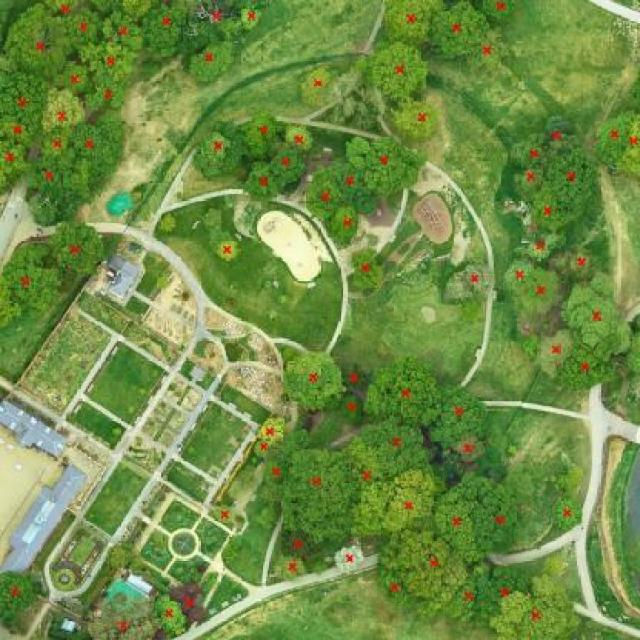tree: (282, 447, 358, 541), (363, 353, 442, 427), (492, 577, 583, 640), (559, 275, 630, 354), (0, 238, 62, 327), (348, 134, 428, 197), (402, 529, 466, 606), (356, 415, 436, 476), (345, 434, 390, 535), (435, 483, 488, 568), (381, 469, 447, 536), (353, 41, 429, 99), (8, 12, 72, 78), (468, 564, 535, 627), (282, 348, 347, 410), (428, 385, 492, 446), (472, 472, 518, 553), (427, 0, 489, 58), (88, 591, 164, 638), (556, 343, 626, 394), (548, 148, 604, 208), (196, 121, 249, 181), (0, 72, 49, 136), (50, 218, 104, 276), (374, 0, 446, 43), (74, 112, 124, 173), (0, 564, 45, 631), (523, 325, 575, 378), (31, 157, 94, 200), (378, 538, 416, 608), (593, 104, 635, 165), (144, 2, 188, 60), (186, 38, 237, 87), (332, 158, 378, 212), (242, 108, 288, 161), (555, 243, 611, 285), (444, 260, 496, 303), (392, 96, 440, 142), (80, 42, 137, 80), (467, 24, 510, 74), (42, 86, 86, 134), (192, 0, 240, 43), (307, 165, 342, 223), (535, 182, 577, 230), (521, 268, 564, 314), (615, 106, 640, 179), (540, 117, 588, 155), (170, 576, 208, 624), (104, 13, 147, 52), (245, 157, 283, 201), (68, 9, 105, 53), (0, 137, 28, 194), (512, 132, 553, 170), (152, 592, 186, 636), (451, 574, 482, 621), (351, 247, 384, 291), (301, 68, 337, 108), (279, 527, 318, 562), (329, 206, 360, 248), (88, 75, 124, 111), (553, 494, 584, 534), (273, 148, 309, 182), (0, 115, 35, 149), (517, 232, 561, 259), (623, 316, 640, 384), (503, 257, 534, 294), (96, 0, 150, 20), (59, 63, 93, 94), (279, 124, 315, 151), (515, 168, 547, 198), (333, 544, 365, 573), (472, 0, 518, 20), (40, 128, 71, 157), (338, 360, 367, 391), (454, 436, 488, 462), (340, 392, 366, 426), (274, 557, 308, 583), (258, 417, 288, 446), (30, 200, 59, 226), (262, 458, 288, 487), (238, 4, 262, 30), (209, 502, 237, 524), (44, 0, 84, 15), (215, 238, 240, 260), (155, 212, 177, 234), (252, 438, 273, 458)
